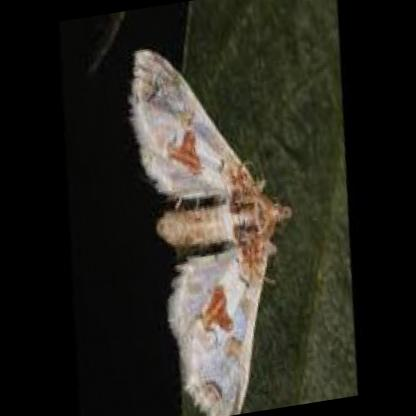leucinodes: (131, 50, 291, 416)
